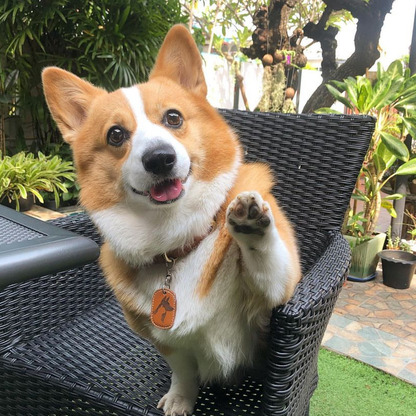Corgi: (31, 21, 328, 381)
